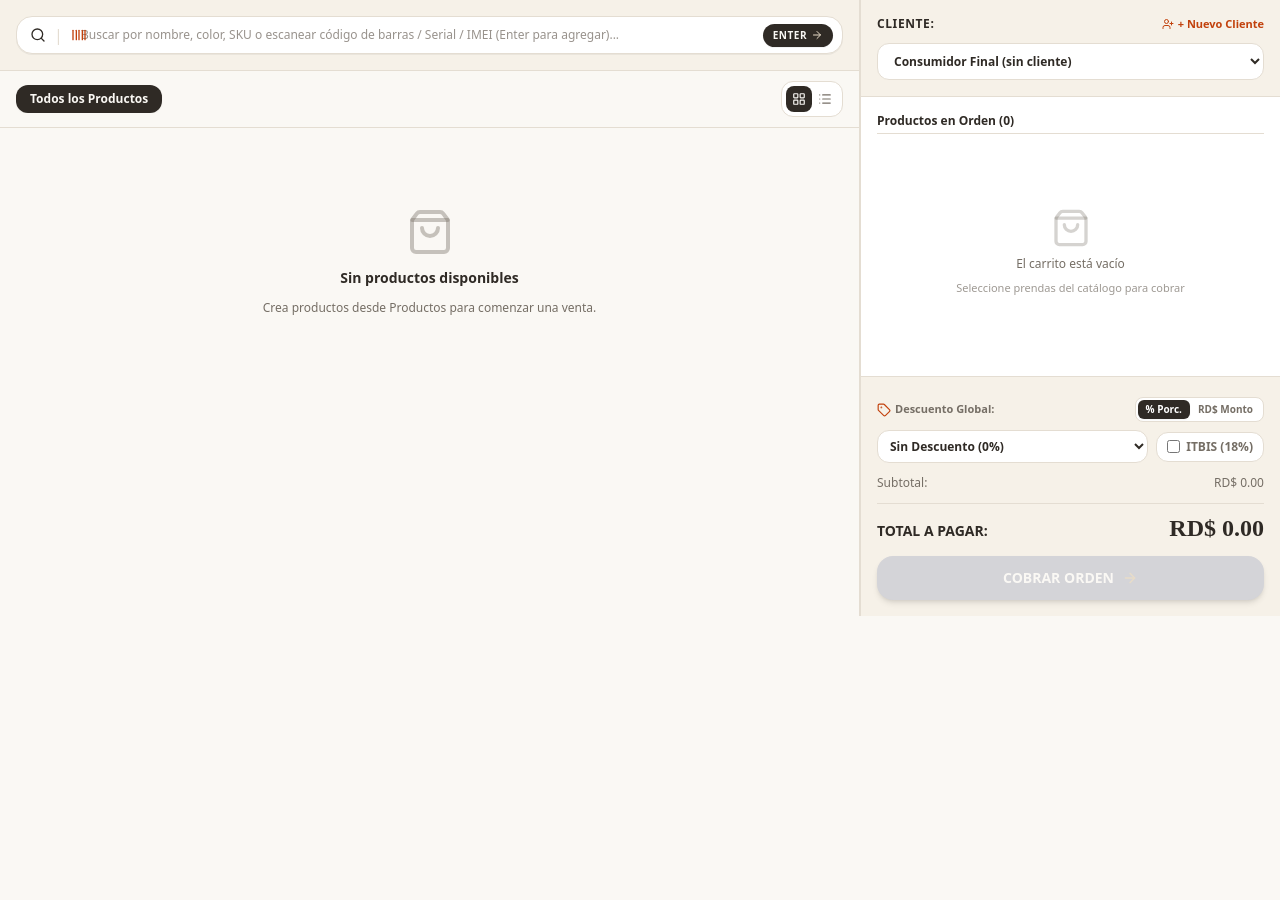
Test case: POSView -- cliente nuevo queda seleccionado automáticamente › sin cliente seleccionado: crear un cliente lo deja seleccionado (no "Consumidor Final")
Click the button "+ Nuevo Cliente": (1213, 24) [1162, 16, 1264, 32]
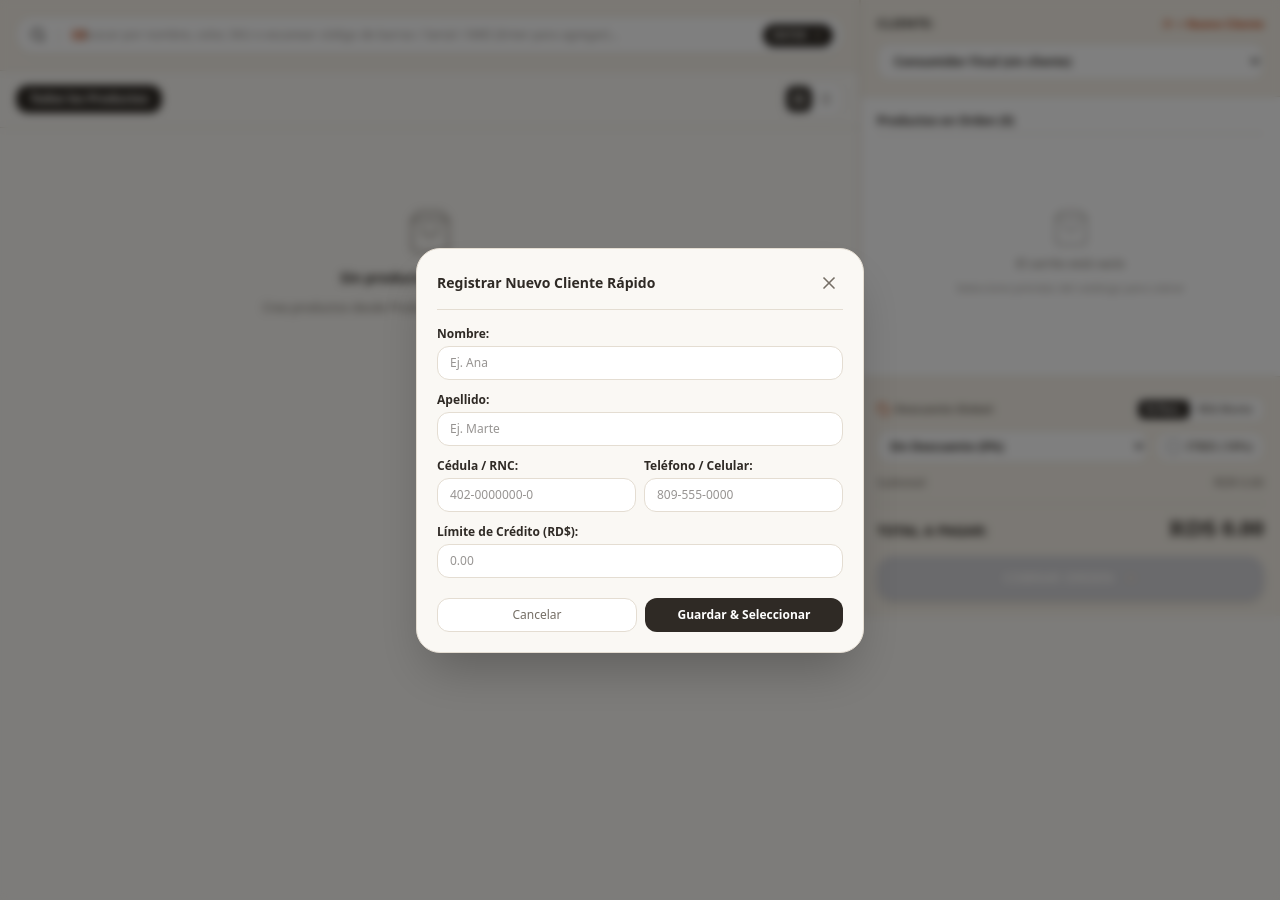
Check: the heading "Registrar Nuevo Cliente Rápido" is shown, box [437, 272, 655, 292]
In the field with placeholder "Ej. Ana": (640, 362) [437, 346, 843, 380], type "Cliente Nuevo 001"
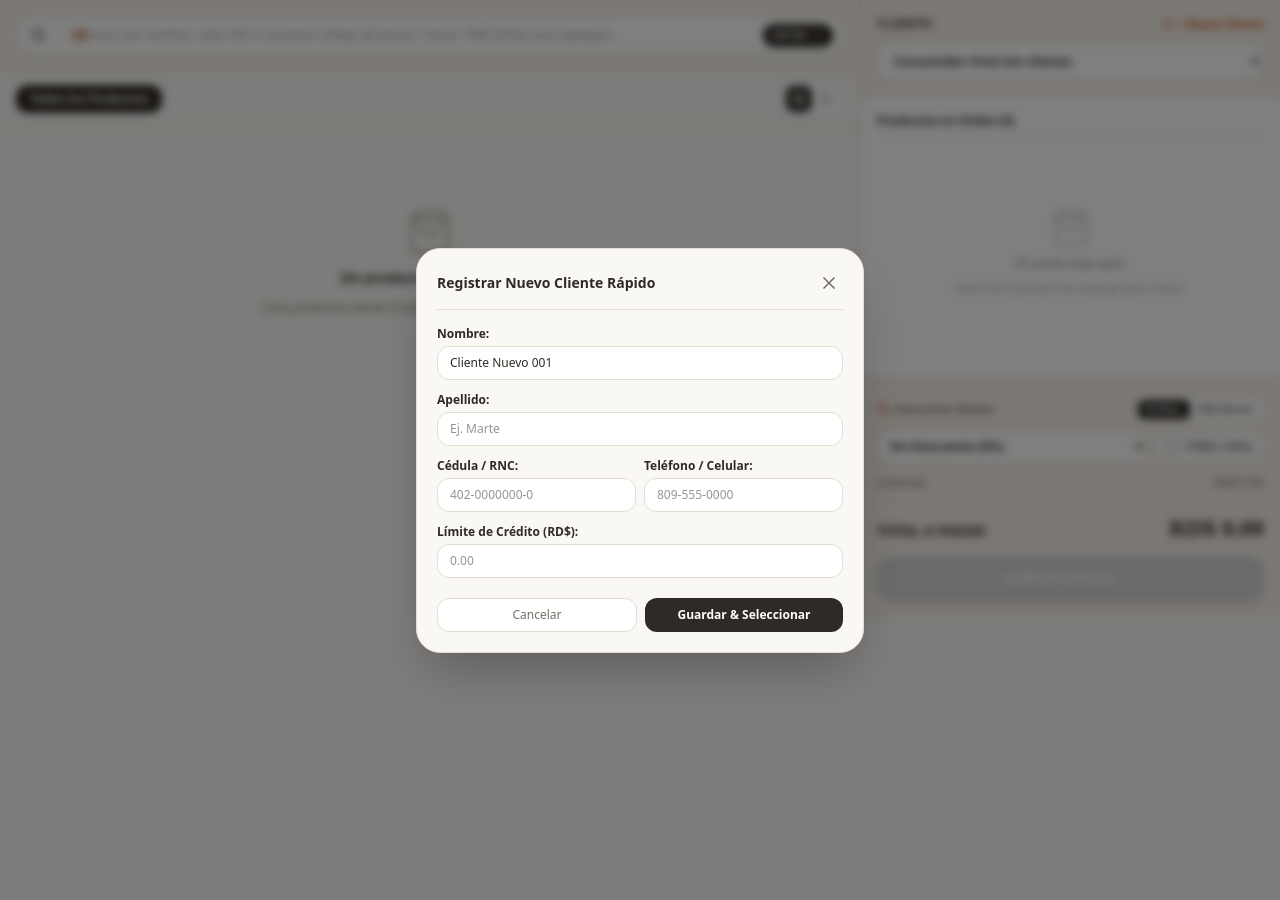
Click the button "Guardar & Seleccionar": (744, 614) [645, 598, 843, 632]
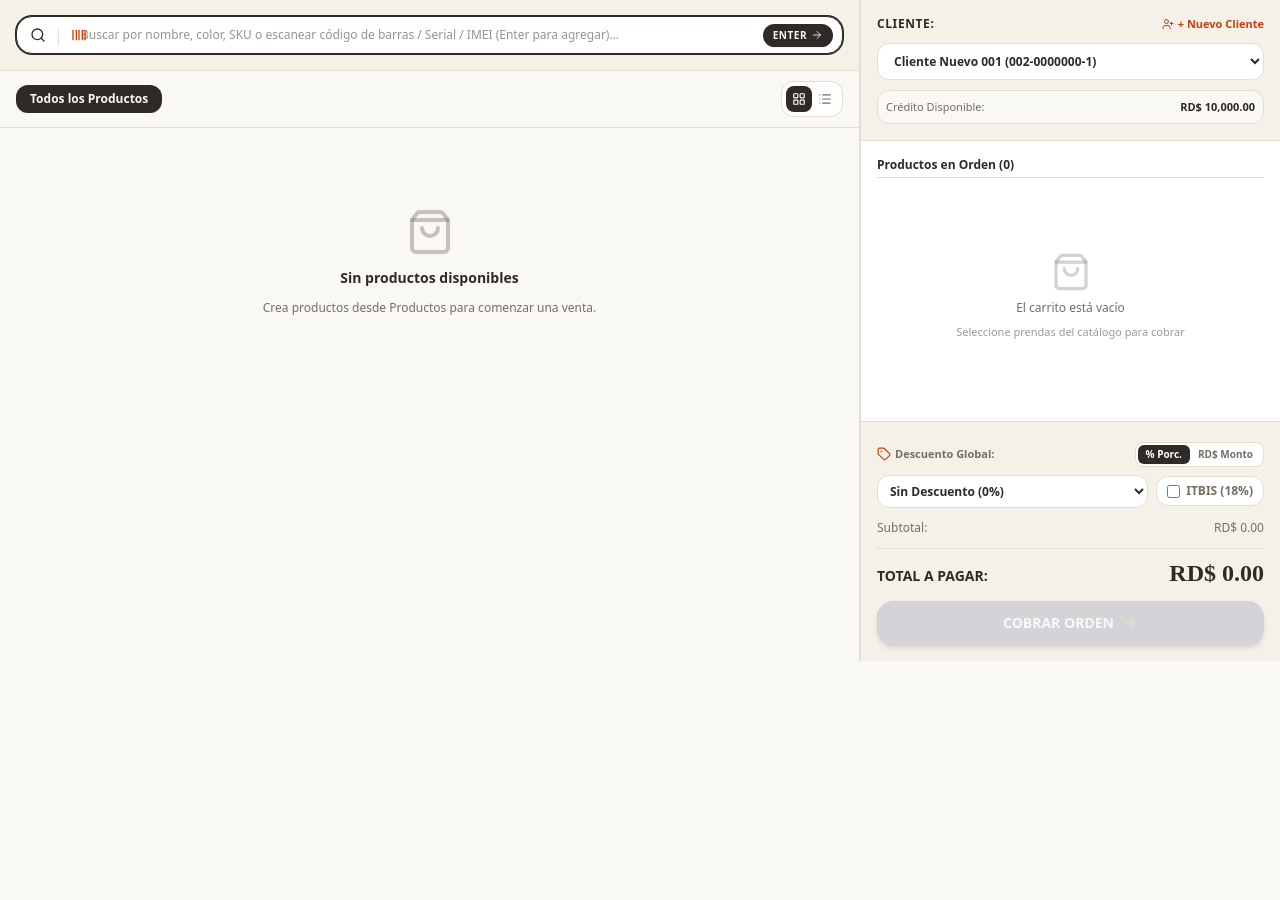
Check: the dropdown named "Cliente" shows "Cliente Nuevo 001 (002-0000000-1)", box [877, 42, 1264, 80]
